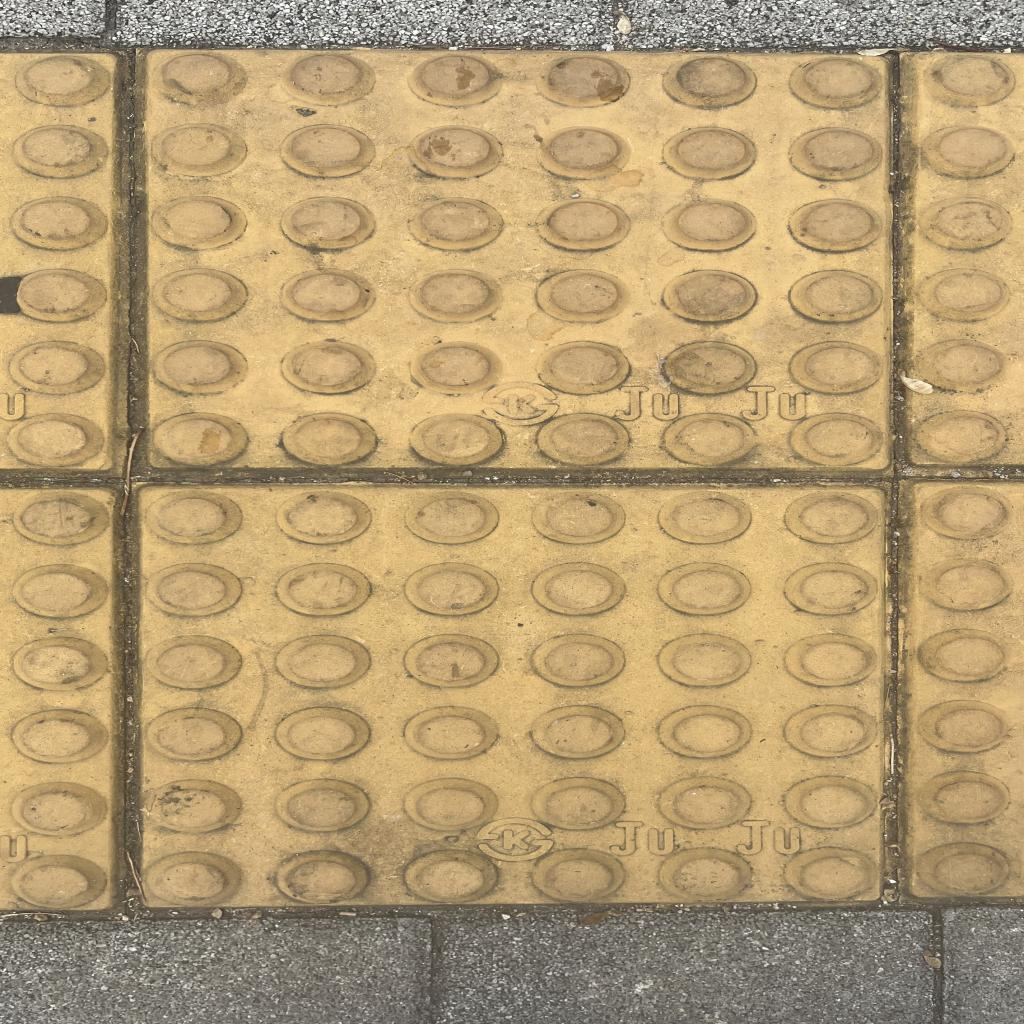Stop block normal: (145, 488, 887, 907), (147, 56, 886, 466)
